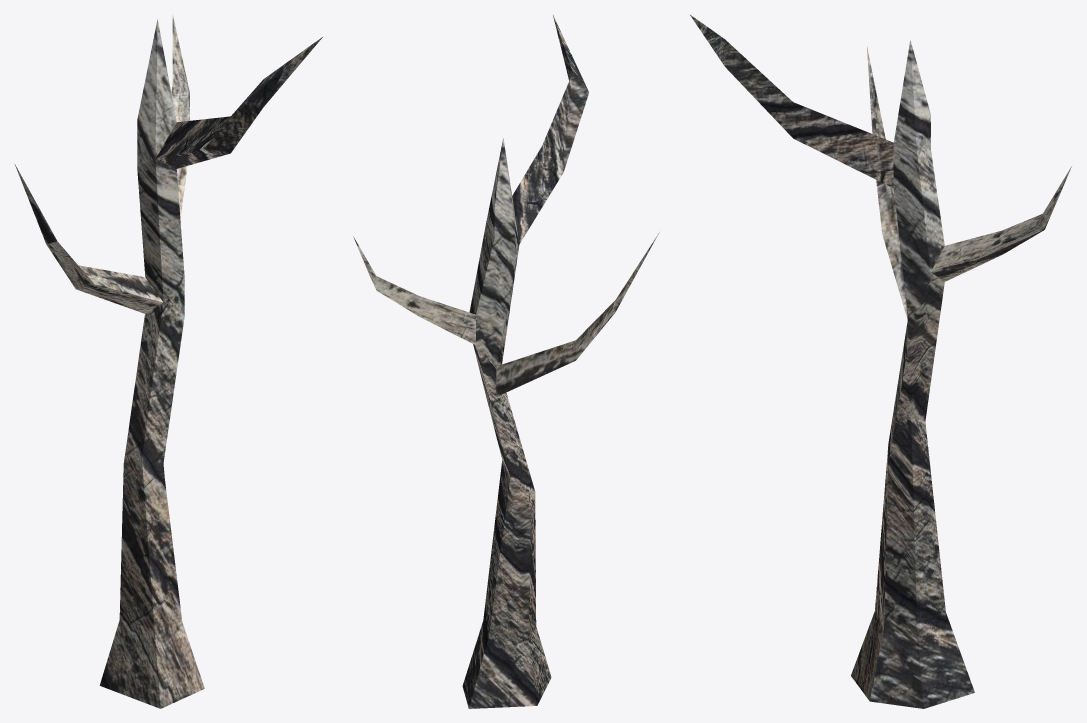
Rendered from drvo.glb.
3 views of the same model, side by side, from view 1: azimuth 30°, elevation 25°; view 2: azimuth 150°, elevation 25°; view 3: azimuth 270°, elevation 25° (orthographic). The views are drawn at different scales.
Parts seen in each view (by area): view 1: Cylinder; view 2: Cylinder; view 3: Cylinder.
Part boxes in pixels (x1,y1,x2,y2): Cylinder: (15,14,322,708); Cylinder: (353,15,659,708); Cylinder: (689,14,1071,708).
Size of the model in its own units: 2.49 by 6.43 by 3.19.
Materials: 1 (1 with a texture image).
